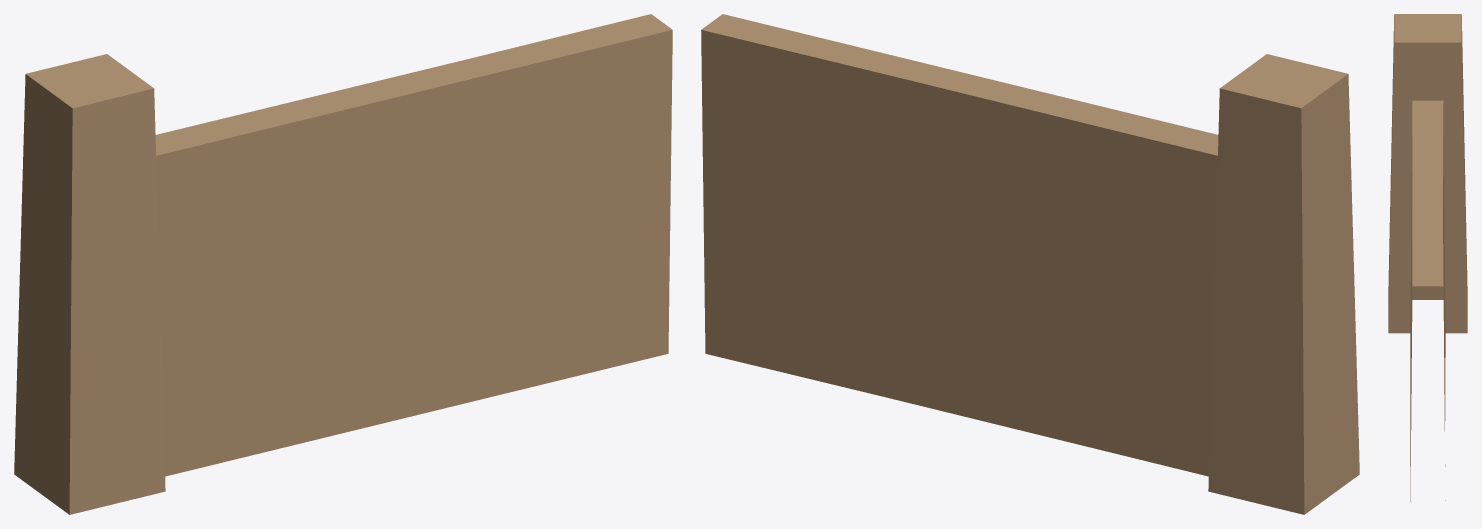
File: Low_Wall_Long.fbx
3 renders of one model, left to right at view 1: azimuth 30°, elevation 25°; view 2: azimuth 150°, elevation 25°; view 3: azimuth 270°, elevation 25°, orthographic. The views are drawn at different scales.
Visible parts, largest first — view 1: Low_Wall_Long; view 2: Low_Wall_Long; view 3: Low_Wall_Long.
Boxes of the visible parts, bbox=[...] form: Low_Wall_Long: bbox=[14, 14, 672, 514]; Low_Wall_Long: bbox=[701, 14, 1359, 514]; Low_Wall_Long: bbox=[1388, 14, 1467, 502].
Size of the model in its own units: 807 by 500 by 125.
Materials: 1 (1 with a texture image).
